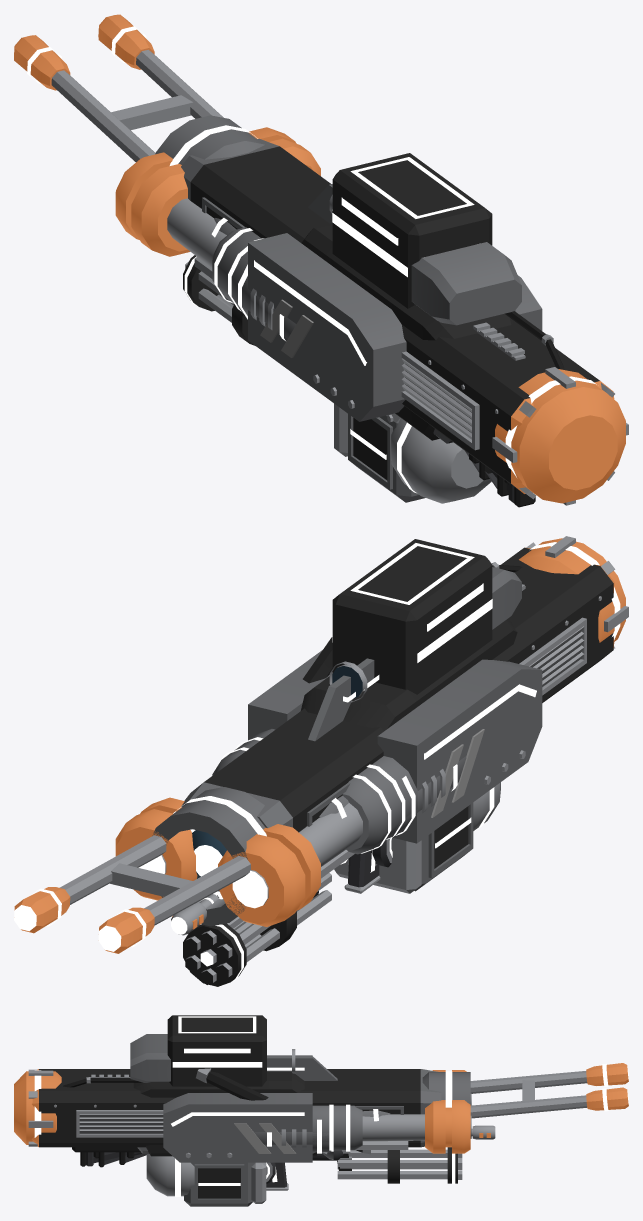
Rendered from weapons.glb.
3 renders of one model, top to bottom at view 1: azimuth 30°, elevation 25°; view 2: azimuth 150°, elevation 25°; view 3: azimuth 270°, elevation 25°, orthographic. The views are drawn at different scales.
Visible parts, largest first — view 1: mauler, burster, skyhook, striker, pounder_spin, pounder; view 2: mauler, burster, skyhook, striker, pounder_spin, pounder, rifle, lance; view 3: mauler, burster, skyhook, striker, pounder_spin, pounder, lance, rifle.
Part boxes in pixels (bbox=[...]): mauler: bbox=[115, 127, 542, 440]; burster: bbox=[14, 14, 492, 503]; skyhook: bbox=[181, 138, 614, 493]; striker: bbox=[155, 115, 628, 505]; pounder_spin: bbox=[183, 255, 254, 345]; pounder: bbox=[232, 264, 452, 443]; mauler: bbox=[115, 567, 542, 926]; burster: bbox=[14, 539, 500, 953]; skyhook: bbox=[181, 547, 614, 897]; striker: bbox=[152, 536, 628, 926]; pounder_spin: bbox=[183, 873, 331, 986]; pounder: bbox=[303, 637, 466, 838]; rifle: bbox=[344, 850, 380, 893]; lance: bbox=[171, 864, 376, 935]; mauler: bbox=[130, 1034, 471, 1162]; burster: bbox=[146, 1015, 628, 1206]; skyhook: bbox=[32, 1056, 441, 1170]; striker: bbox=[14, 1069, 470, 1147]; pounder_spin: bbox=[337, 1147, 462, 1184]; pounder: bbox=[137, 1068, 334, 1153]; lance: bbox=[80, 1125, 495, 1166]; rifle: bbox=[98, 1152, 288, 1190].
Size of the model in its own units: 0.2975 by 0.4615 by 1.48.
